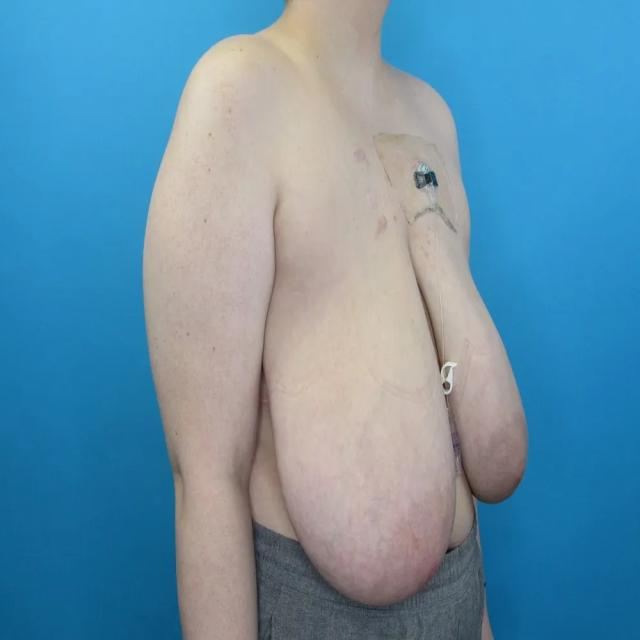Seno ileso: (260, 224, 459, 622), (462, 242, 531, 516)
